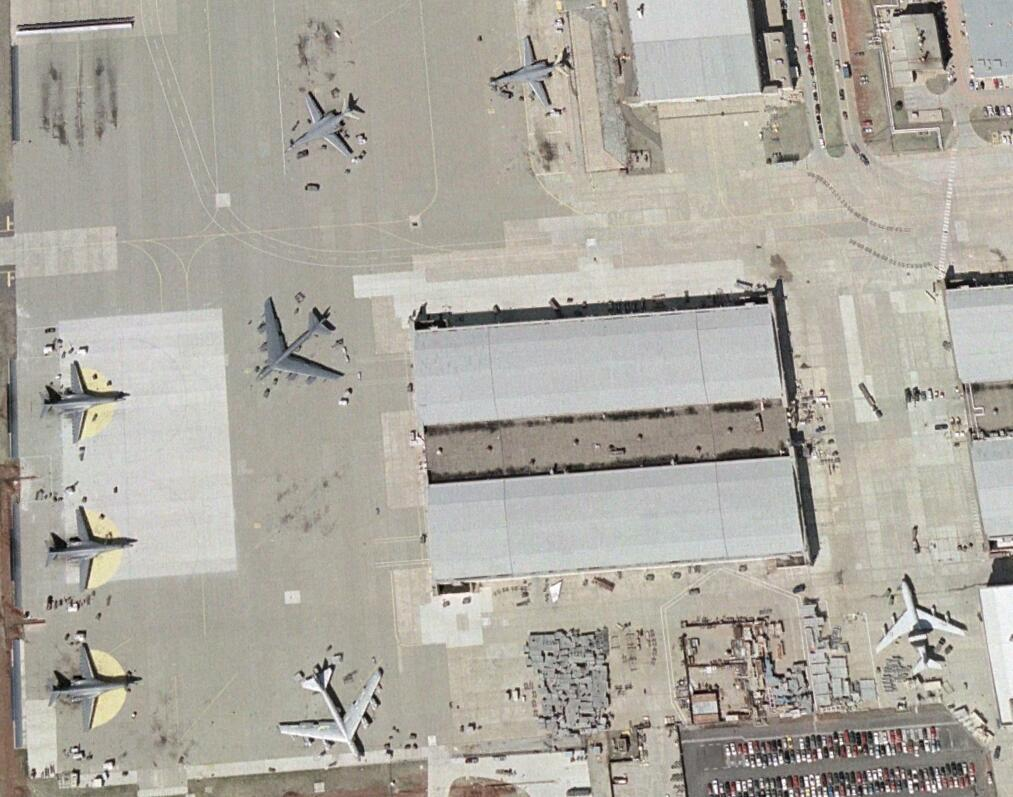A10: (45, 644, 138, 729), (43, 506, 131, 593), (38, 360, 125, 442), (489, 36, 572, 109), (285, 89, 366, 160)
A7: (874, 577, 967, 675)
A8: (278, 665, 382, 763), (251, 295, 346, 387)
